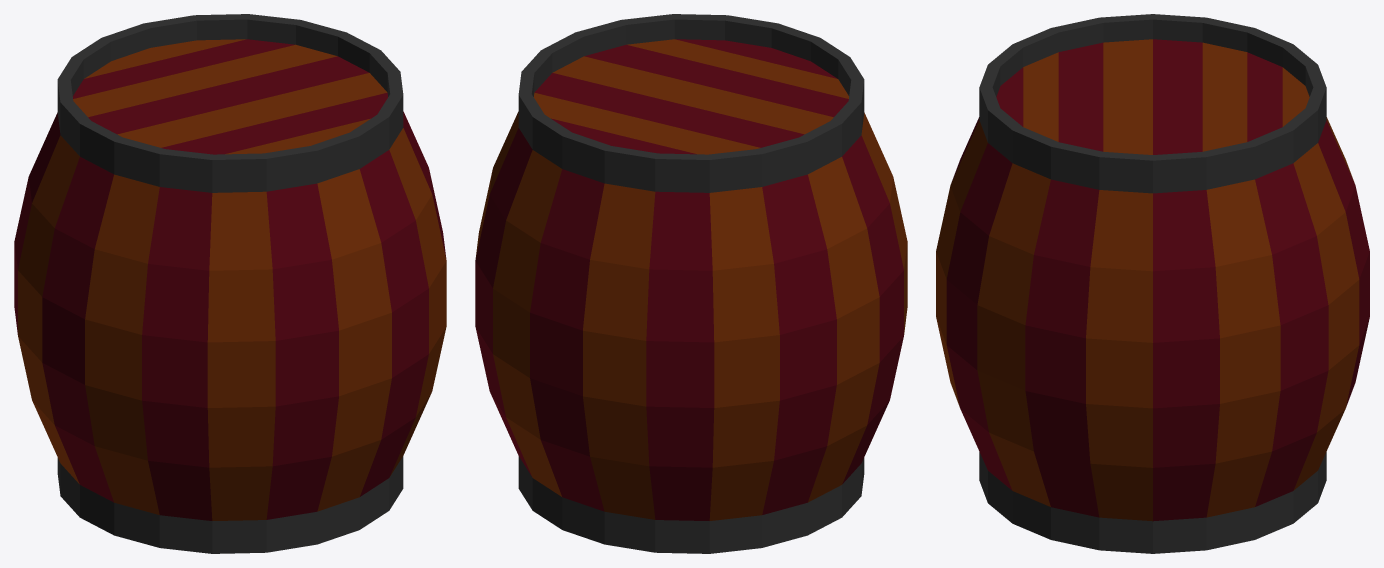
The model's file is Barrel.fbx.
3 renders of one model, left to right at view 1: azimuth 30°, elevation 25°; view 2: azimuth 150°, elevation 25°; view 3: azimuth 270°, elevation 25°, orthographic.
Parts seen in each view (by area): view 1: Barrel; view 2: Barrel; view 3: Barrel.
Part boxes in pixels (<box>): Barrel: <box>14,14,446,553</box>; Barrel: <box>475,14,907,553</box>; Barrel: <box>936,14,1369,553</box>.
Bounding box in the file's own units: 100 × 100 × 100.
